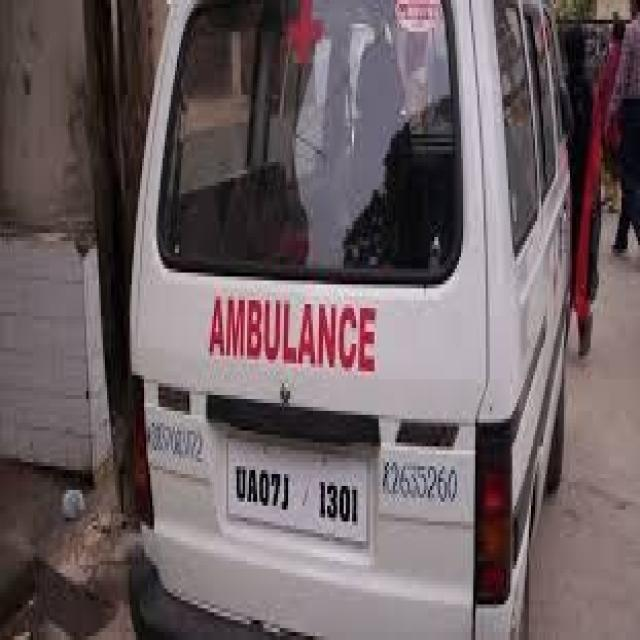ambulance: (146, 0, 555, 640)
